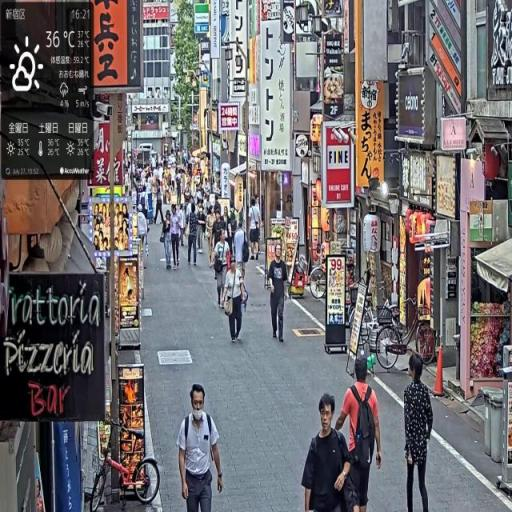person: (335, 357, 384, 512), (302, 392, 354, 512), (177, 382, 225, 512), (404, 354, 436, 512), (267, 244, 289, 345), (223, 259, 247, 345), (213, 228, 231, 312), (249, 196, 263, 263), (171, 204, 184, 271), (162, 209, 175, 273)
